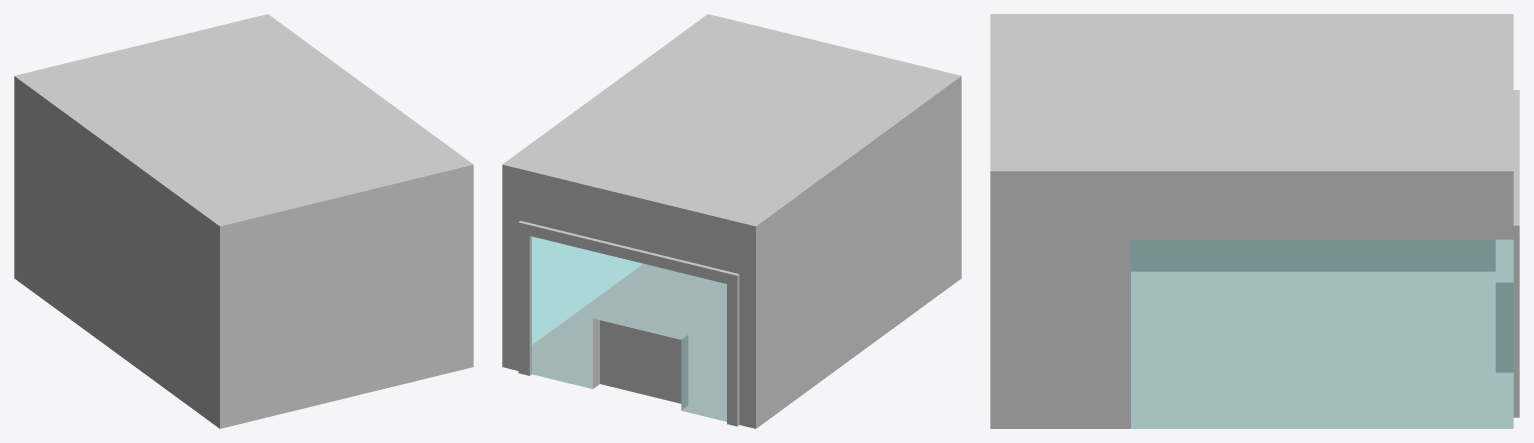
File: Store3b.dae
3 renders of one model, left to right at view 1: azimuth 30°, elevation 25°; view 2: azimuth 150°, elevation 25°; view 3: azimuth 270°, elevation 25°, orthographic. The views are drawn at different scales.
Visible parts, largest first — view 1: SketchUp; view 2: SketchUp (×2); view 3: SketchUp (×2).
Part boxes in pixels (x1,y1,x2,y2): SketchUp: [14, 14, 473, 428]; SketchUp (×2): [502, 14, 961, 428]; SketchUp (×2): [990, 14, 1519, 428].
Size of the model in its own units: 165138 by 234470 by 125921.
